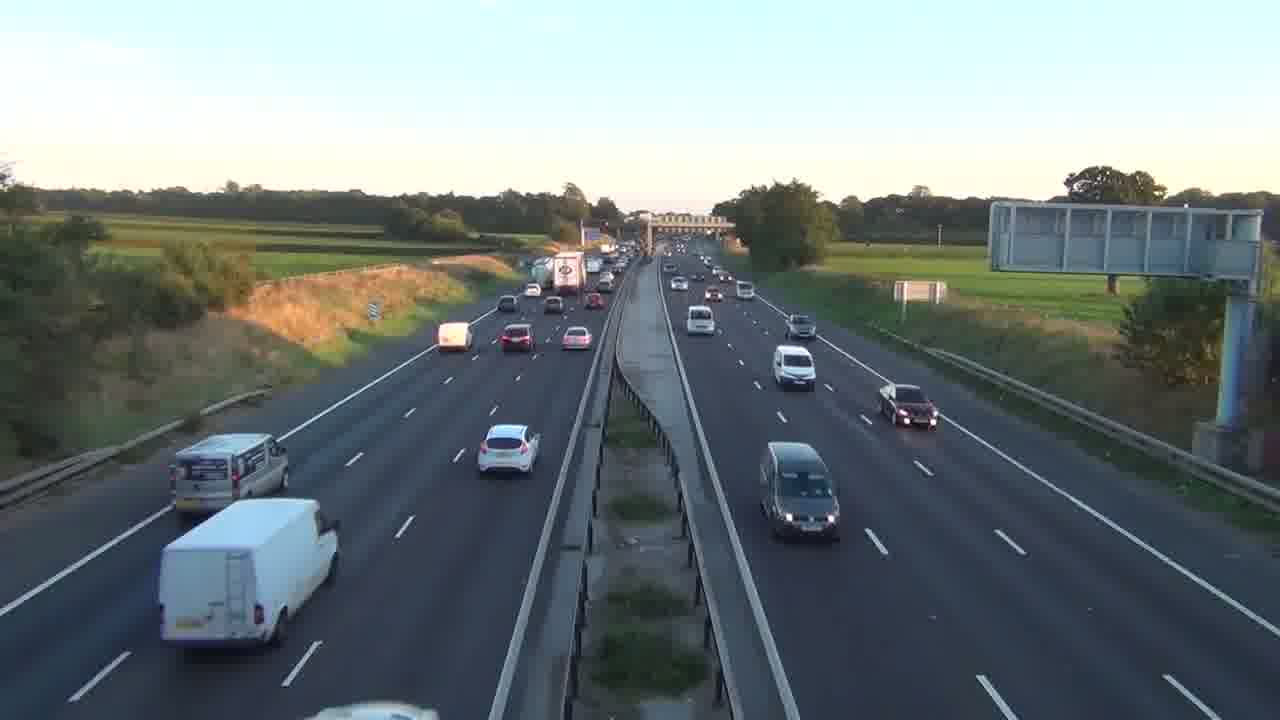bus: (168, 431, 290, 517)
car: (476, 423, 539, 476), (878, 383, 939, 429), (772, 344, 817, 392), (497, 323, 534, 355), (686, 305, 716, 336), (561, 325, 593, 351)
truck: (158, 496, 341, 649), (437, 321, 473, 355)
